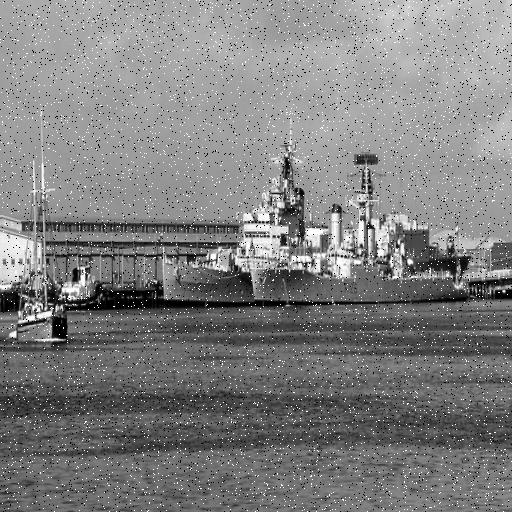Fragata: (247, 154, 475, 311)
